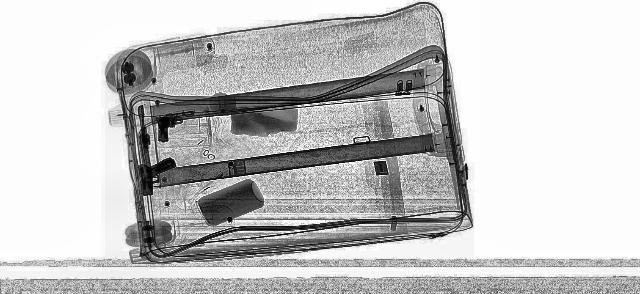Gun: (128, 103, 158, 167), (130, 158, 173, 196), (150, 112, 193, 142)
